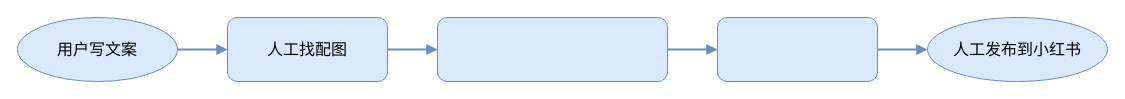
Image size: 1125x99. Some labels were removed from this diagram. The centre of each missing label's shape, as x and y in pixels:
人工导出图片: (797,49)
人工用 Canva/PS 逐页排版: (552,49)
